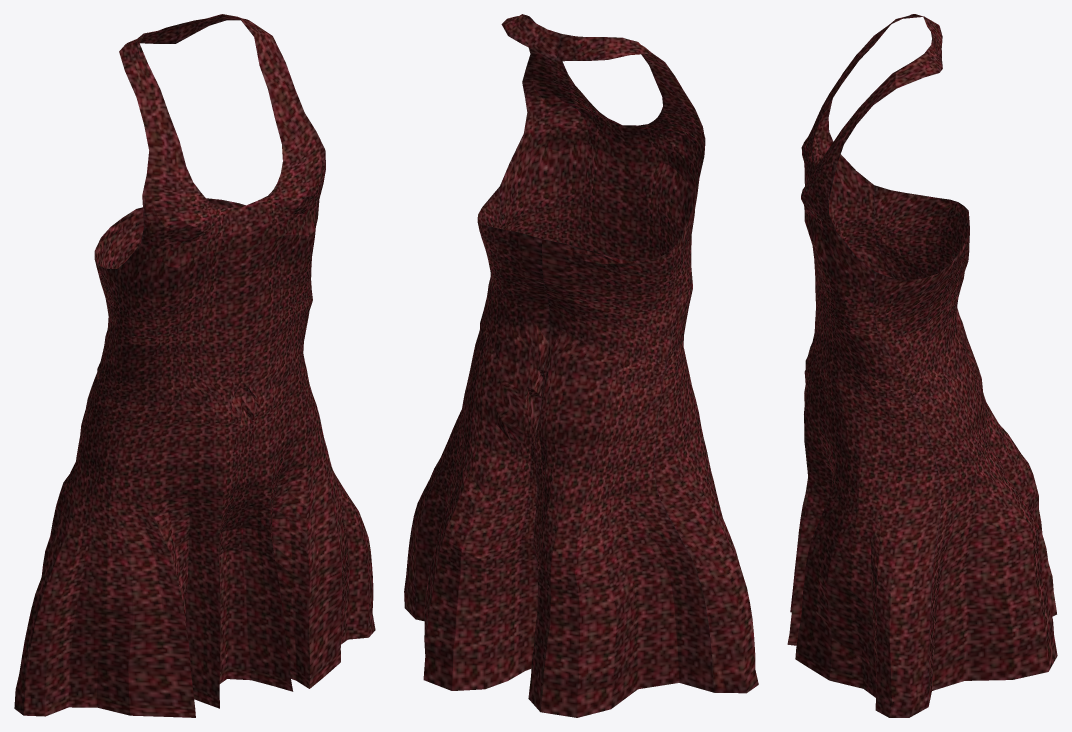
The model's file is mhw_toigo_halter_dress_knee_length.glb.
The picture shows the model from 3 angles, left to right: view 1: azimuth 30°, elevation 25°; view 2: azimuth 150°, elevation 25°; view 3: azimuth 270°, elevation 25°; orthographic projection. The views are drawn at different scales.
Visible parts, largest first — view 1: mhw_toigo_halter_dress_knee_length; view 2: mhw_toigo_halter_dress_knee_length; view 3: mhw_toigo_halter_dress_knee_length.
Part boxes in pixels (<box>): mhw_toigo_halter_dress_knee_length: <box>14,14,375,717</box>; mhw_toigo_halter_dress_knee_length: <box>404,14,758,717</box>; mhw_toigo_halter_dress_knee_length: <box>787,14,1057,717</box>.
Bounding box in the file's own units: 0.567 × 0.9822 × 0.3983.
Materials: 1 (1 with a texture image).
